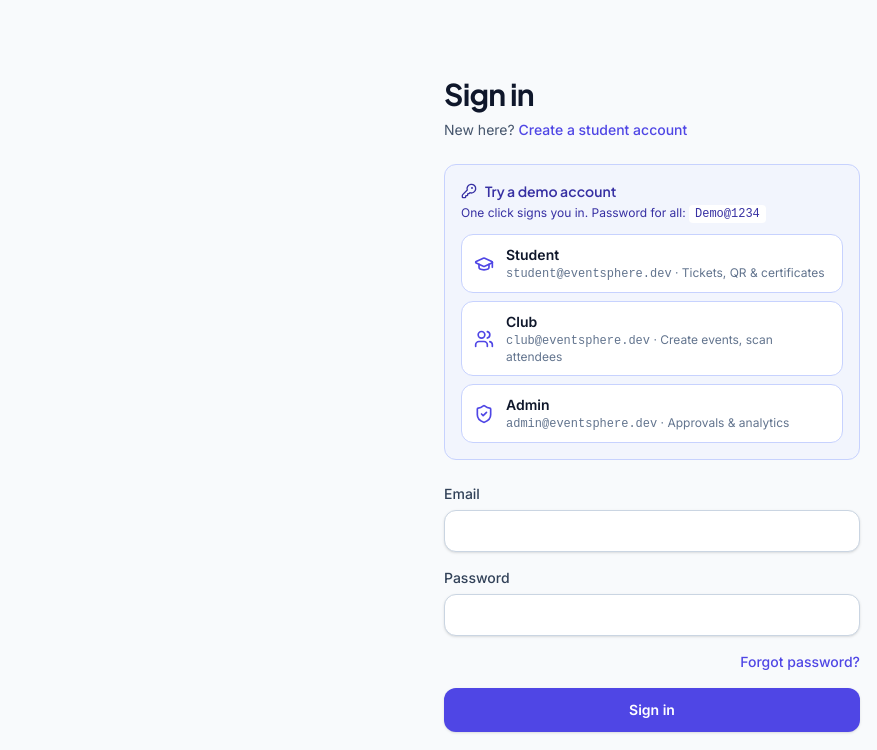
Test case: Login › signs in with a one-click demo account and lands on that role home
Click the button "Club club@eventsphere.dev · Create events, scan attendees": (652, 338) [461,301,843,376]
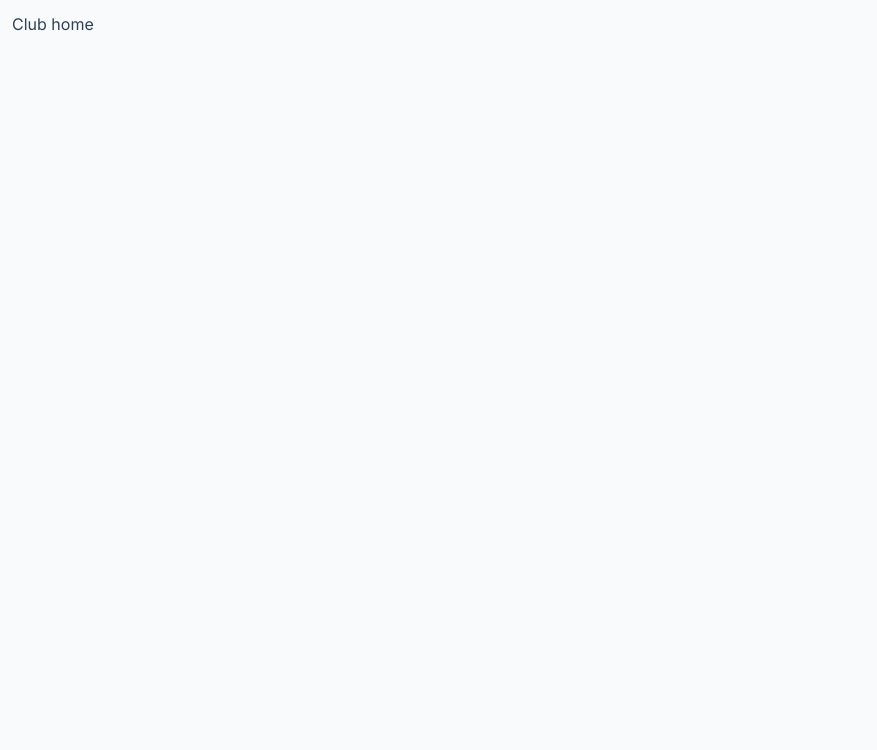
Check: the text "Club home" is shown, box [12,14,94,34]
